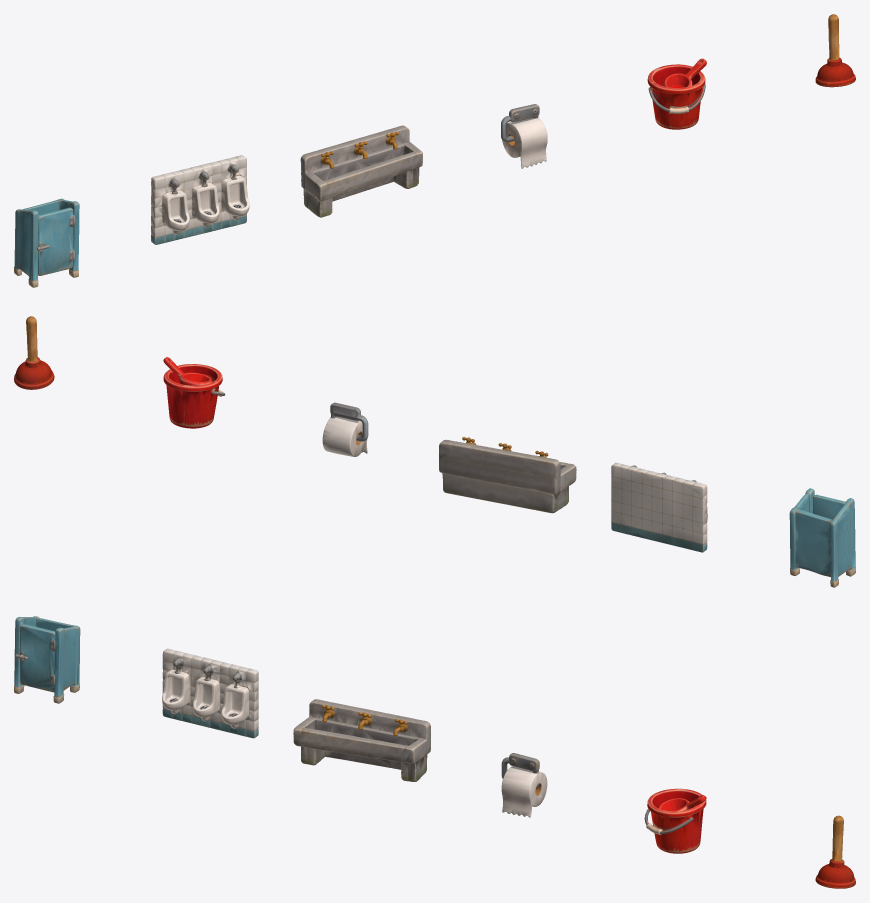
The model's file is set_toilet.glb.
3 renders of one model, top to bottom at view 1: azimuth 30°, elevation 25°; view 2: azimuth 150°, elevation 25°; view 3: azimuth 330°, elevation 25°, orthographic.
Parts seen in each view (by area): view 1: p2, p1, p0, p4, p3, p5; view 2: p2, p1, p0, p4, p3, p5; view 3: p2, p1, p0, p4, p3, p5.
Boxes of the visible parts, x1=… form: p2: x1=300, y1=125, x2=422, y2=217; p1: x1=151, y1=155, x2=249, y2=244; p0: x1=14, y1=198, x2=79, y2=287; p4: x1=647, y1=58, x2=706, y2=129; p3: x1=501, y1=104, x2=547, y2=168; p5: x1=815, y1=14, x2=855, y2=87; p2: x1=439, y1=437, x2=576, y2=513; p1: x1=611, y1=462, x2=707, y2=552; p0: x1=789, y1=488, x2=855, y2=587; p4: x1=163, y1=357, x2=225, y2=428; p3: x1=322, y1=402, x2=368, y2=456; p5: x1=14, y1=316, x2=54, y2=389; p2: x1=293, y1=699, x2=430, y2=781; p1: x1=162, y1=648, x2=258, y2=738; p0: x1=14, y1=616, x2=80, y2=703; p4: x1=644, y1=788, x2=706, y2=853; p3: x1=501, y1=753, x2=547, y2=817; p5: x1=815, y1=815, x2=855, y2=888.
Bounding box in the file's own units: 15.8 × 1.37 × 0.9756.
1 material, 1 textured.
